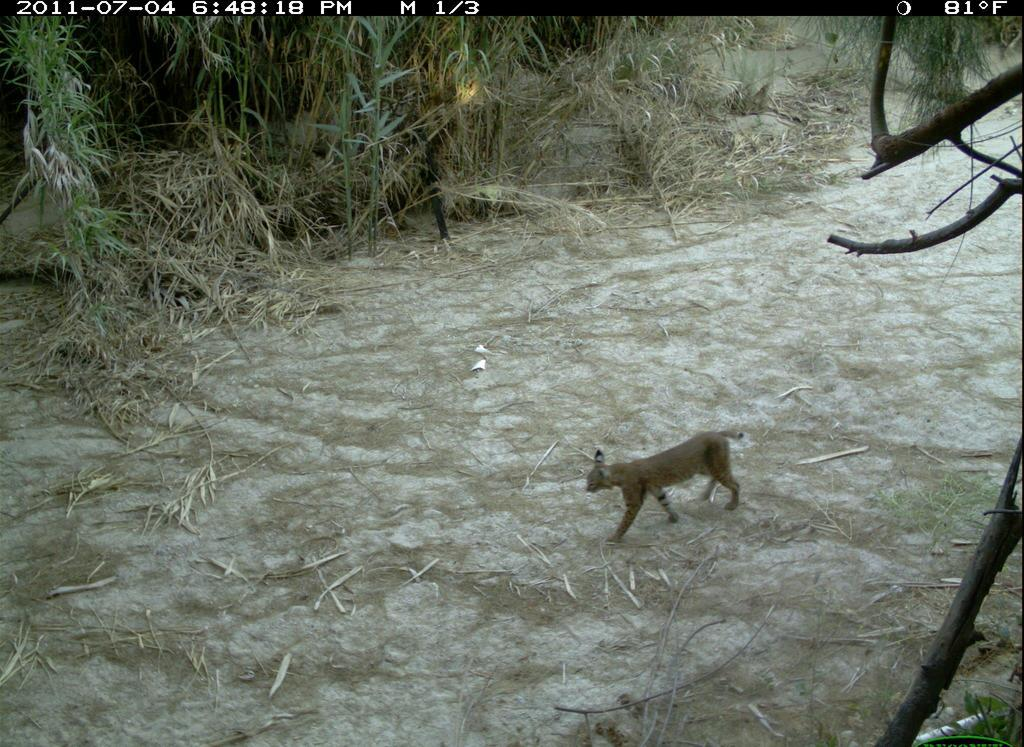bobcat: (561, 433, 753, 546)
